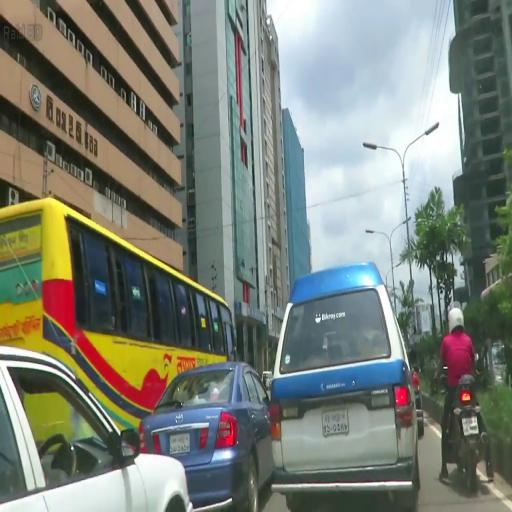bus: (2, 195, 239, 362)
car: (137, 362, 271, 512)
motorbike: (433, 305, 496, 499)
van: (268, 259, 423, 512)
